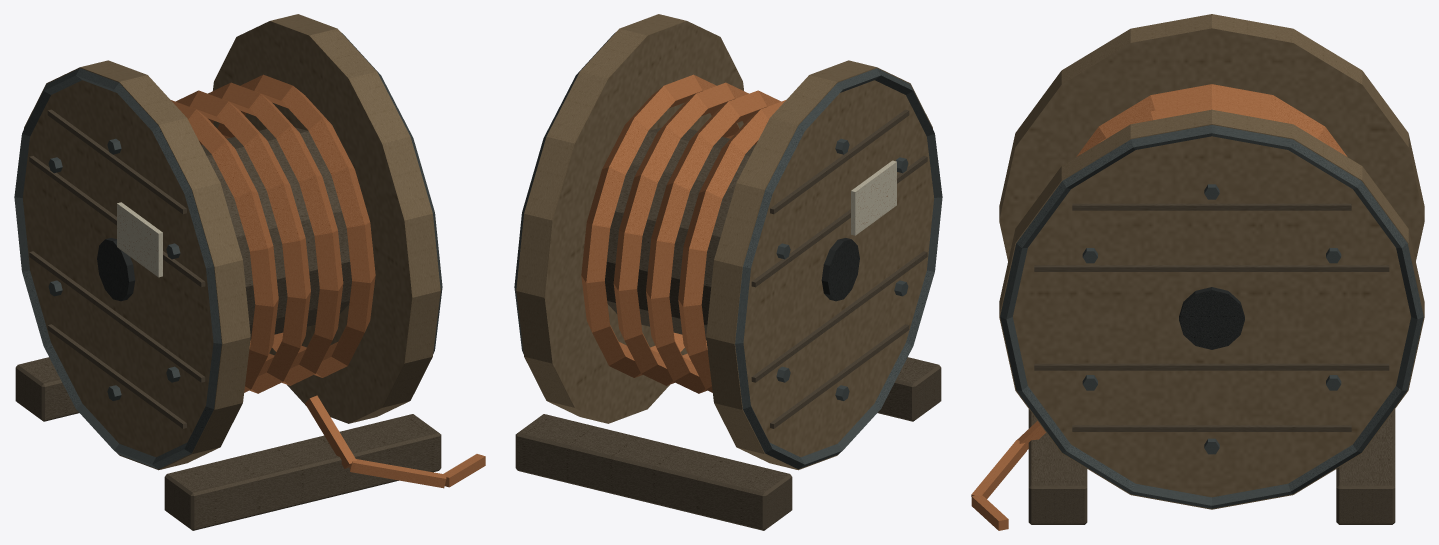
The model's file is CompactCableReel.fbx.
3 views of the same model, side by side, from view 1: azimuth 30°, elevation 25°; view 2: azimuth 150°, elevation 25°; view 3: azimuth 270°, elevation 25° (orthographic). The views are drawn at different scales.
Visible parts, largest first — view 1: CompactCableReel; view 2: CompactCableReel; view 3: CompactCableReel.
Boxes of the visible parts, <box> form: CompactCableReel: <box>14,14,485,530</box>; CompactCableReel: <box>514,14,942,530</box>; CompactCableReel: <box>971,14,1424,530</box>.
Bounding box in the file's own units: 73.5 × 96 × 100.
Materials: 1 (1 with a texture image).
